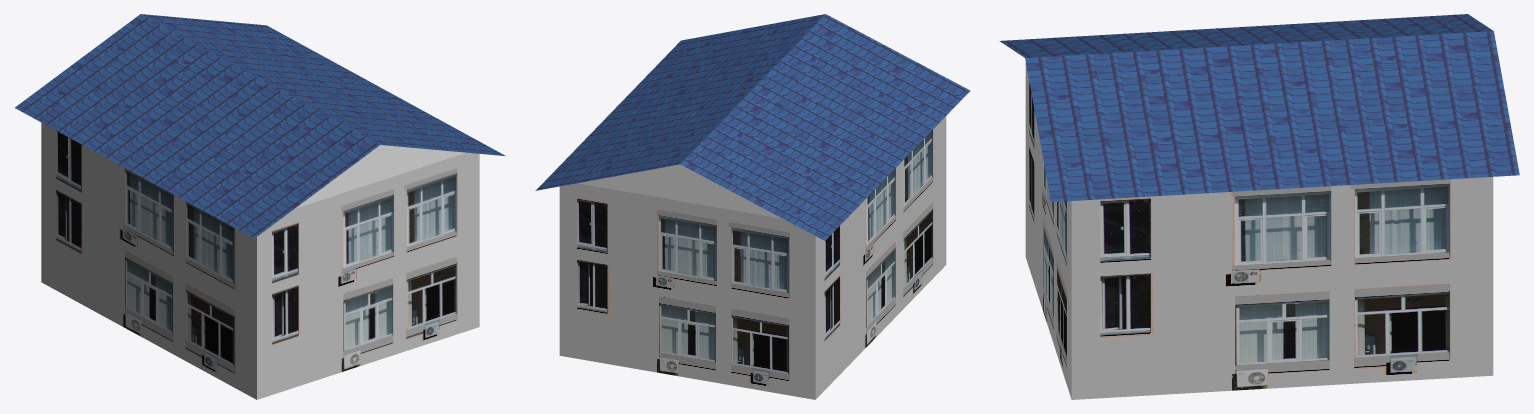
The picture shows the model from 3 angles, left to right: view 1: azimuth 30°, elevation 25°; view 2: azimuth 150°, elevation 25°; view 3: azimuth 270°, elevation 25°; orthographic projection. The views are drawn at different scales.
Visible parts, largest first — view 1: CityEngineMaterial_9_m, CityEngineMaterial_10_m, CityEngineMaterial_3_m; view 2: CityEngineMaterial_9_m, CityEngineMaterial_10_m, CityEngineMaterial_3_m; view 3: CityEngineMaterial_9_m, CityEngineMaterial_10_m.
Part boxes in pixels (<box>): CityEngineMaterial_9_m: <box>41,122,479,399</box>; CityEngineMaterial_10_m: <box>15,14,505,238</box>; CityEngineMaterial_3_m: <box>295,145,465,208</box>; CityEngineMaterial_9_m: <box>559,116,946,399</box>; CityEngineMaterial_10_m: <box>535,14,970,240</box>; CityEngineMaterial_3_m: <box>578,164,782,218</box>; CityEngineMaterial_9_m: <box>1025,62,1493,399</box>; CityEngineMaterial_10_m: <box>999,14,1519,202</box>.
Bounding box in the file's own units: 18.7 × 12.6 × 21.86.
